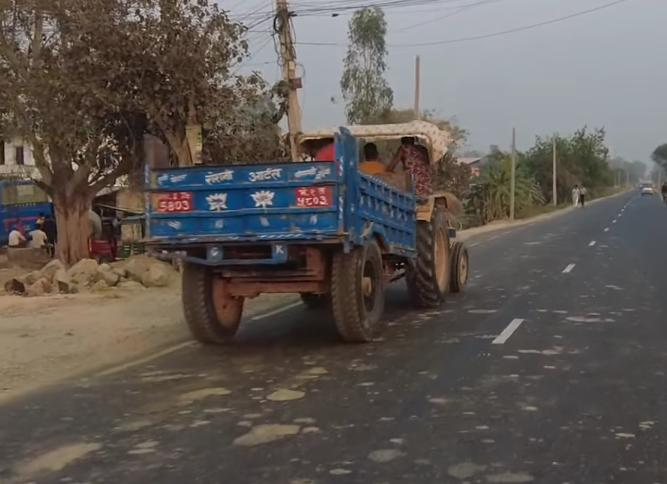tractor: (153, 118, 479, 350)
